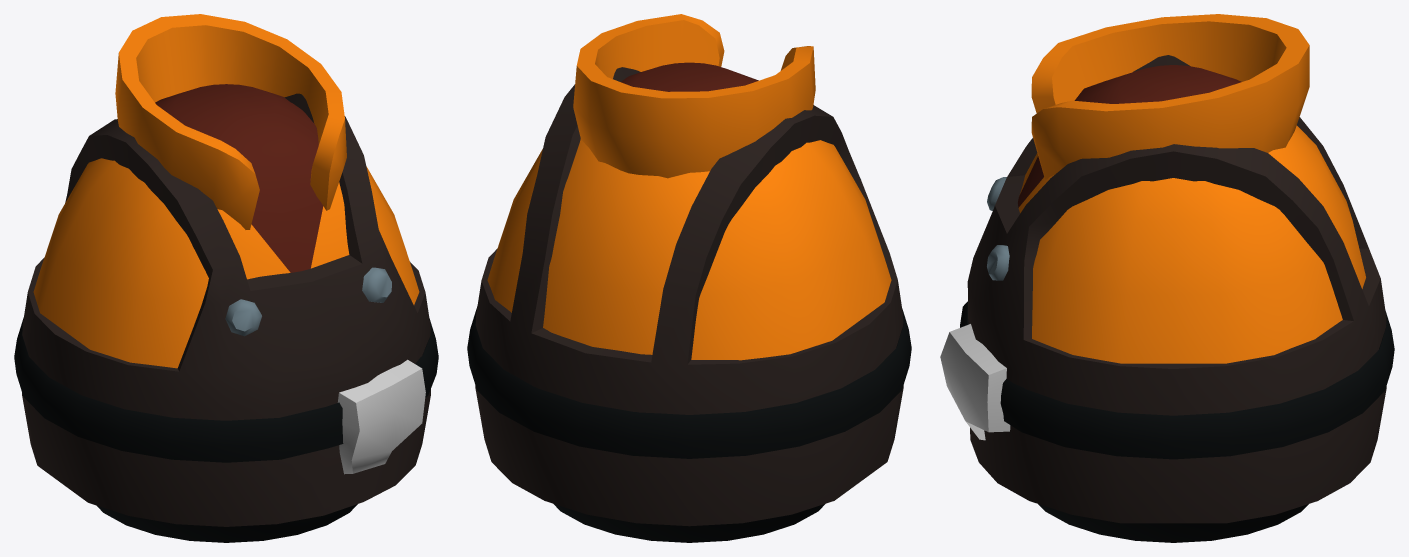
Rendered from character_tavernkeeper.obj.
3 views of the same model, side by side, from view 1: azimuth 30°, elevation 25°; view 2: azimuth 150°, elevation 25°; view 3: azimuth 270°, elevation 25° (orthographic). The views are drawn at different scales.
Parts seen in each view (by area): view 1: character_tavernkeeper_Cube.6076; view 2: character_tavernkeeper_Cube.6076; view 3: character_tavernkeeper_Cube.6076.
Part boxes in pixels (left/top/right/bottom): character_tavernkeeper_Cube.6076: left=14, top=14, right=438, bottom=542; character_tavernkeeper_Cube.6076: left=467, top=14, right=911, bottom=542; character_tavernkeeper_Cube.6076: left=940, top=14, right=1394, bottom=542.
Size of the model in its own units: 0.7407 by 0.8048 by 0.7611.
